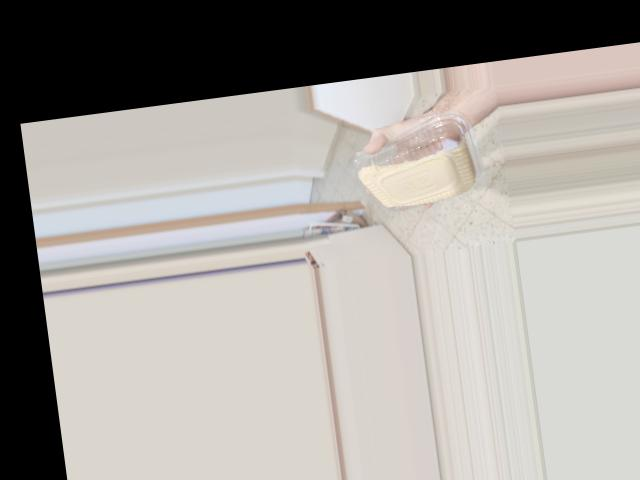cheese: (379, 131, 492, 198)
